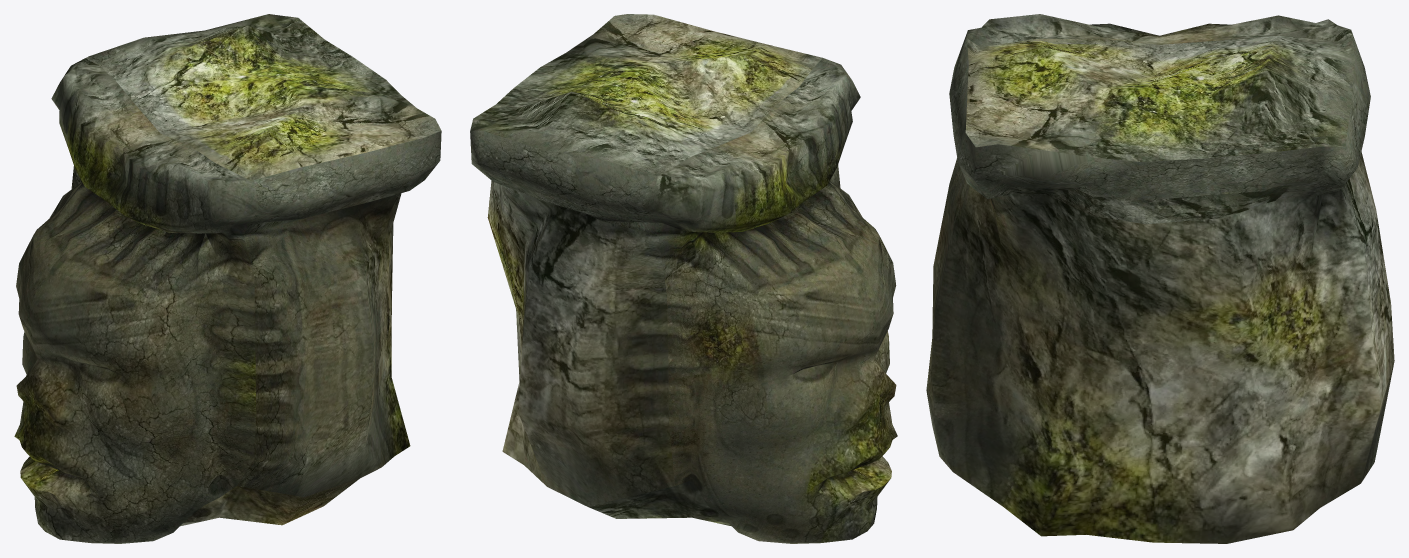
Rendered from statue-head-size-2.glb.
3 renders of one model, left to right at view 1: azimuth 30°, elevation 25°; view 2: azimuth 150°, elevation 25°; view 3: azimuth 270°, elevation 25°, orthographic. The views are drawn at different scales.
Parts seen in each view (by area): view 1: ShinarianStatueHead; view 2: ShinarianStatueHead; view 3: ShinarianStatueHead.
Boxes of the visible parts, x1,y1,x2,y2 form: ShinarianStatueHead: [14, 14, 441, 543]; ShinarianStatueHead: [470, 14, 897, 543]; ShinarianStatueHead: [926, 14, 1394, 543].
Bounding box in the file's own units: 0.0953 × 0.1066 × 0.091.
Materials: 1 (1 with a texture image).
